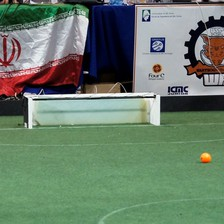ball: (198, 150, 212, 164)
goal: (18, 90, 164, 132)
